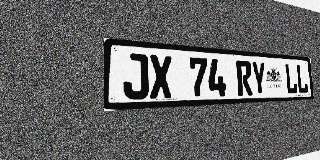4: (207, 58, 226, 97)
7: (188, 57, 208, 97)
J: (123, 53, 149, 100)
L: (285, 63, 298, 94), (296, 64, 308, 94)
R: (236, 60, 253, 96)
X: (149, 54, 173, 99)
Y: (251, 61, 267, 95)
